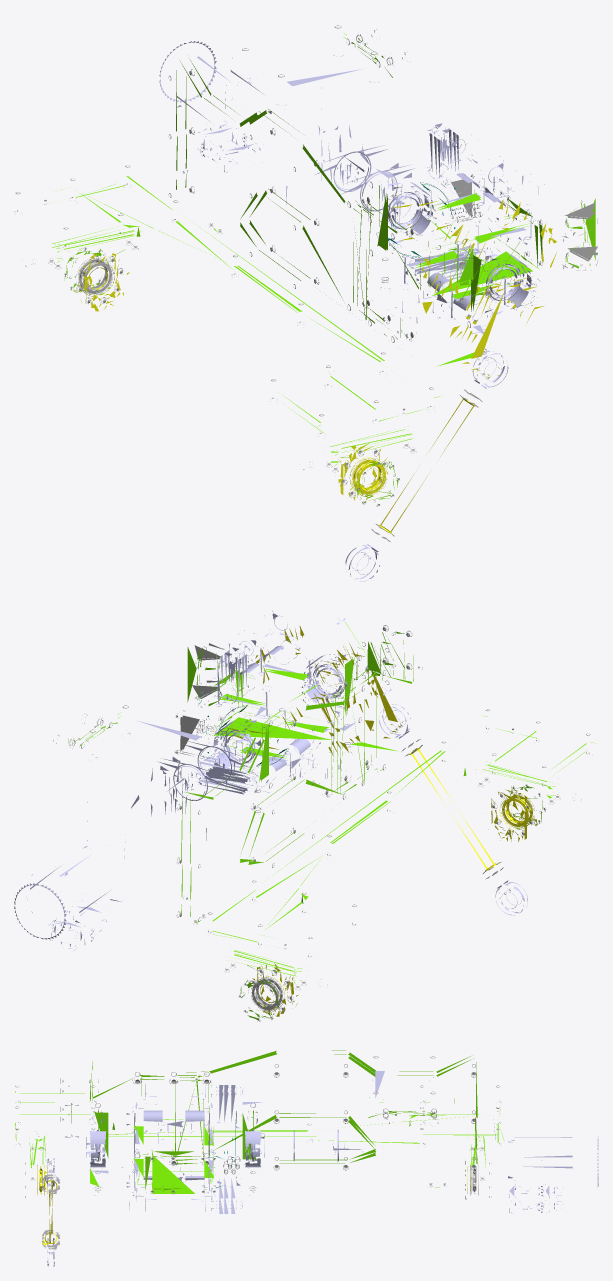
3 views of the same model, one above another, from view 1: azimuth 30°, elevation 25°; view 2: azimuth 150°, elevation 25°; view 3: azimuth 270°, elevation 25° (orthographic). The views are drawn at different scales.
Visible parts, largest first — view 1: F19721000063102000151_001_zb_hb_antrieb_51_fa (×7); view 2: F19721000063102000151_001_zb_hb_antrieb_51_fa (×7); view 3: F19721000063102000151_001_zb_hb_antrieb_51_fa (×4).
Boxes of the visible parts, left/top/right/bottom form: F19721000063102000151_001_zb_hb_antrieb_51_fa (×7): left=14, top=25, right=597, bottom=581; F19721000063102000151_001_zb_hb_antrieb_51_fa (×7): left=14, top=611, right=593, bottom=1021; F19721000063102000151_001_zb_hb_antrieb_51_fa (×4): left=15, top=1050, right=598, bottom=1266.
Size of the model in its own units: 969 by 1691 by 826.
